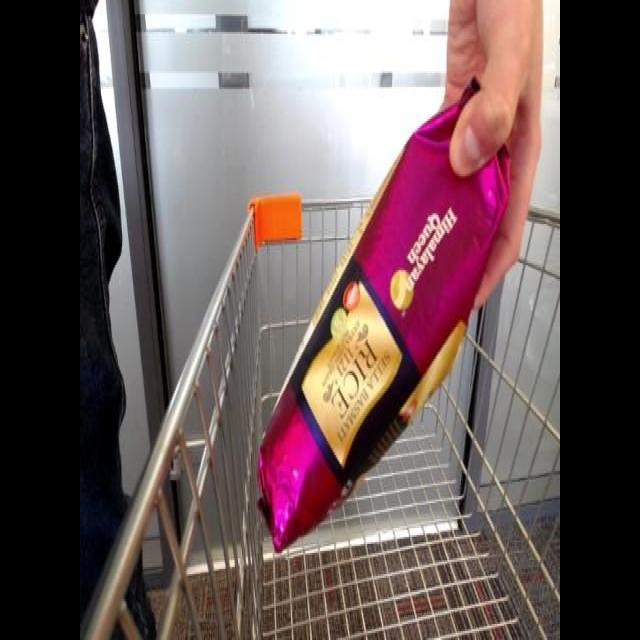Basmati Rice: (250, 60, 521, 562)
